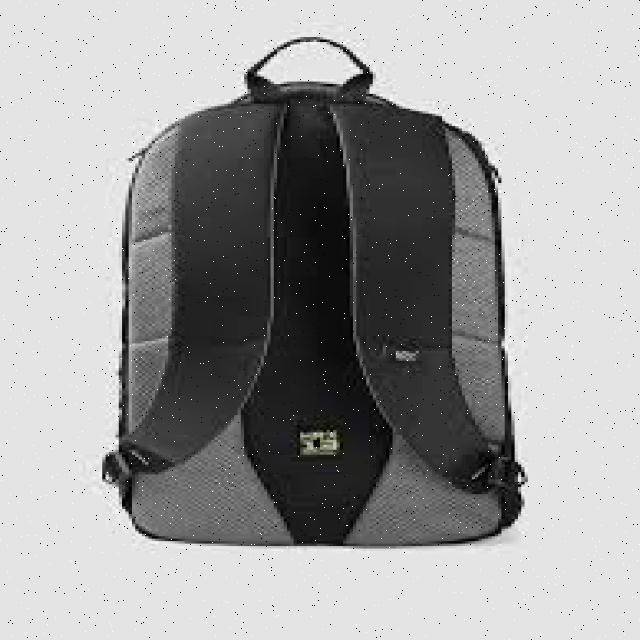backpack: (99, 35, 525, 546)
